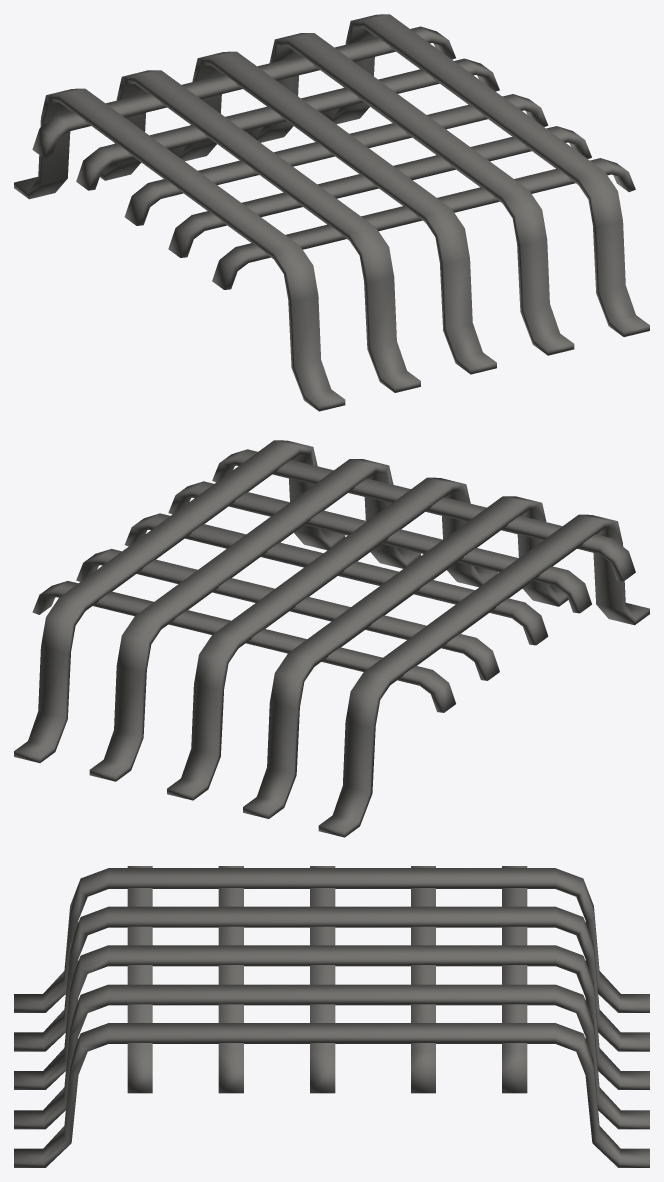
The model's file is rpgpp_ag_fireplace_01a.fbx.
The picture shows the model from 3 angles, top to bottom: view 1: azimuth 30°, elevation 25°; view 2: azimuth 150°, elevation 25°; view 3: azimuth 270°, elevation 25°; orthographic projection. The views are drawn at different scales.
Parts seen in each view (by area): view 1: rpgpp_ag_fireplace_01a; view 2: rpgpp_ag_fireplace_01a; view 3: rpgpp_ag_fireplace_01a.
Boxes of the visible parts, box(x1,y1,x2,y2) form: rpgpp_ag_fireplace_01a: box(14, 14, 649, 411); rpgpp_ag_fireplace_01a: box(14, 440, 649, 837); rpgpp_ag_fireplace_01a: box(14, 866, 649, 1167).
Size of the model in its own units: 1.14 by 0.3343 by 1.46.
